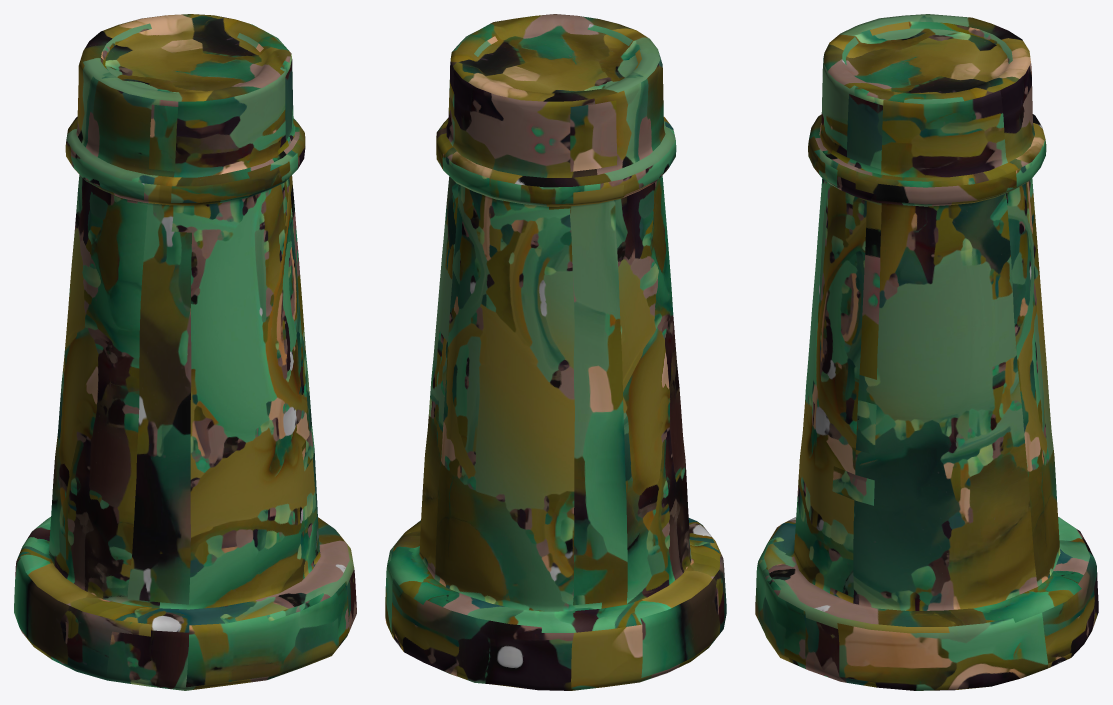
File: Chimenea.fbx
The picture shows the model from 3 angles, left to right: view 1: azimuth 30°, elevation 25°; view 2: azimuth 150°, elevation 25°; view 3: azimuth 270°, elevation 25°; orthographic projection.
Visible parts, largest first — view 1: tripo_node_64eeb9c1; view 2: tripo_node_64eeb9c1; view 3: tripo_node_64eeb9c1.
Boxes of the visible parts, x1,y1,x2,y2 form: tripo_node_64eeb9c1: (14, 14, 356, 690); tripo_node_64eeb9c1: (385, 14, 726, 690); tripo_node_64eeb9c1: (755, 14, 1098, 690).
Bounding box in the file's own units: 0.5425 × 0.9998 × 0.5503.
